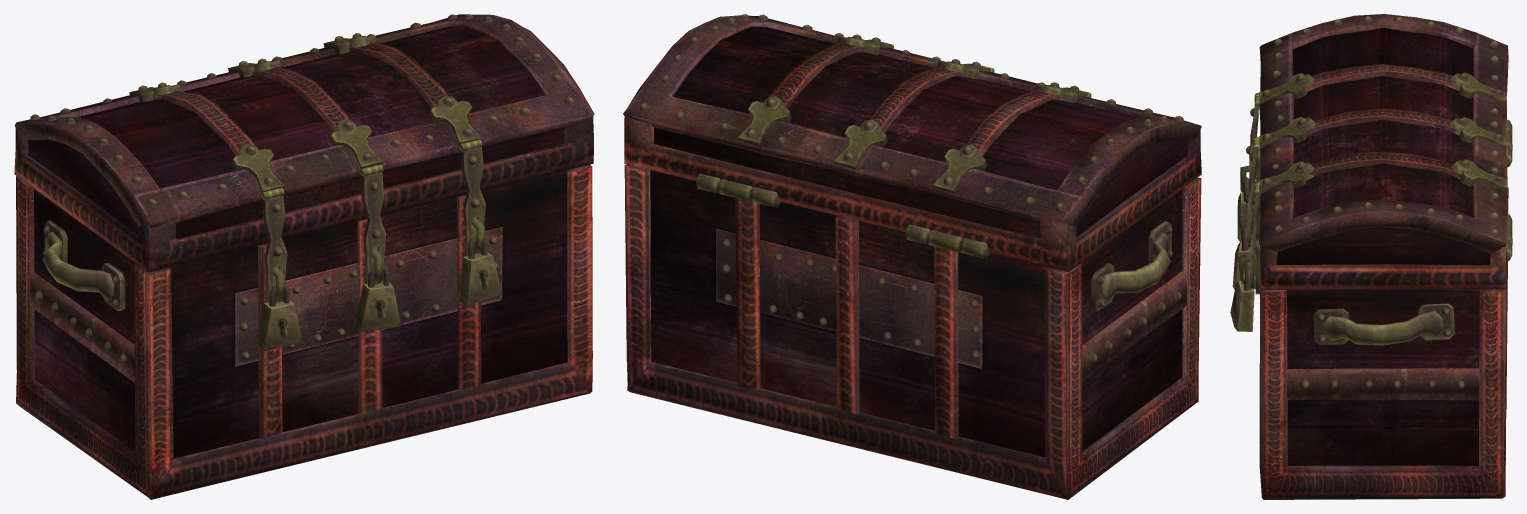
The model's file is Captain_chest.FBX.
3 views of the same model, side by side, from view 1: azimuth 30°, elevation 25°; view 2: azimuth 150°, elevation 25°; view 3: azimuth 270°, elevation 25° (orthographic). The views are drawn at different scales.
Visible parts, largest first — view 1: Captain_chest, captain_chest_cover; view 2: Captain_chest, captain_chest_cover; view 3: captain_chest_cover, Captain_chest.
Part boxes in pixels (bbox=[...]): Captain_chest: bbox=[16, 164, 592, 499]; captain_chest_cover: bbox=[14, 14, 594, 302]; Captain_chest: bbox=[624, 164, 1201, 499]; captain_chest_cover: bbox=[623, 14, 1201, 271]; captain_chest_cover: bbox=[1245, 14, 1508, 289]; Captain_chest: bbox=[1230, 97, 1512, 499].
Size of the model in its own units: 86.09 by 52.37 by 45.89.
